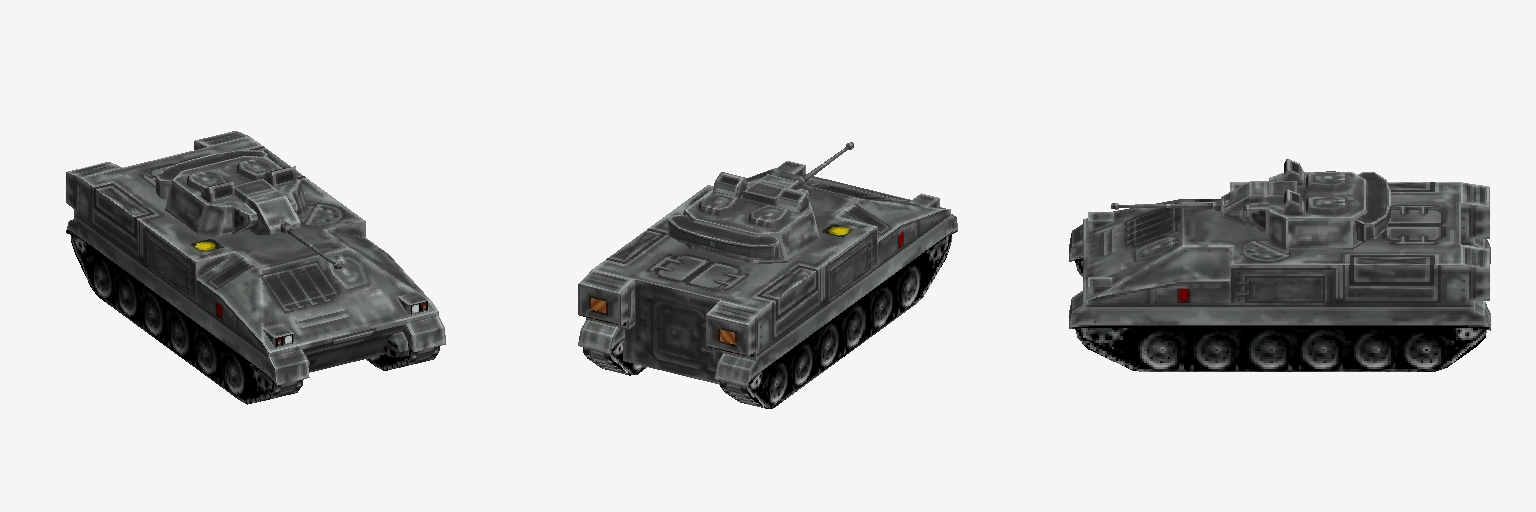
3 renders of one model, left to right at view 1: azimuth 30°, elevation 25°; view 2: azimuth 150°, elevation 25°; view 3: azimuth 270°, elevation 25°, orthographic.
Parts seen in each view (by area): view 1: Object02; view 2: Object02; view 3: Object02.
Boxes of the visible parts, x1,y1,x2,y2 form: Object02: [66, 131, 445, 404]; Object02: [578, 142, 957, 408]; Object02: [1069, 159, 1490, 371].
Size of the model in its own units: 1.24 by 1.07 by 2.67.
Materials: 1 (1 with a texture image).